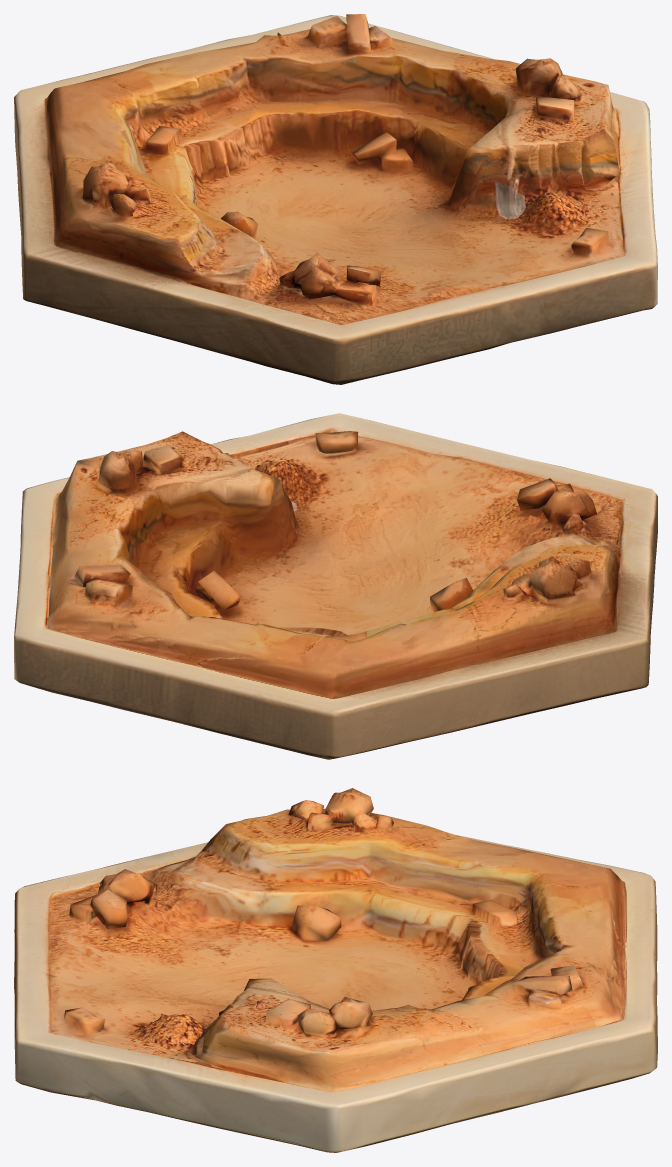
File: pilot_clay.glb
3 views of the same model, one above another, from view 1: azimuth 30°, elevation 25°; view 2: azimuth 150°, elevation 25°; view 3: azimuth 270°, elevation 25° (orthographic).
Visible parts, largest first — view 1: tripo_node_c9da30db-2039-4491-9e79-f286ac6e1344; view 2: tripo_node_c9da30db-2039-4491-9e79-f286ac6e1344; view 3: tripo_node_c9da30db-2039-4491-9e79-f286ac6e1344.
Part boxes in pixels (x1=…): tripo_node_c9da30db-2039-4491-9e79-f286ac6e1344: x1=14, y1=14, x2=657, y2=384; tripo_node_c9da30db-2039-4491-9e79-f286ac6e1344: x1=14, y1=413, x2=657, y2=759; tripo_node_c9da30db-2039-4491-9e79-f286ac6e1344: x1=14, y1=788, x2=657, y2=1152.
Size of the model in its own units: 0.9794 by 0.1733 by 0.8904.
Materials: 1 (1 with a texture image).
